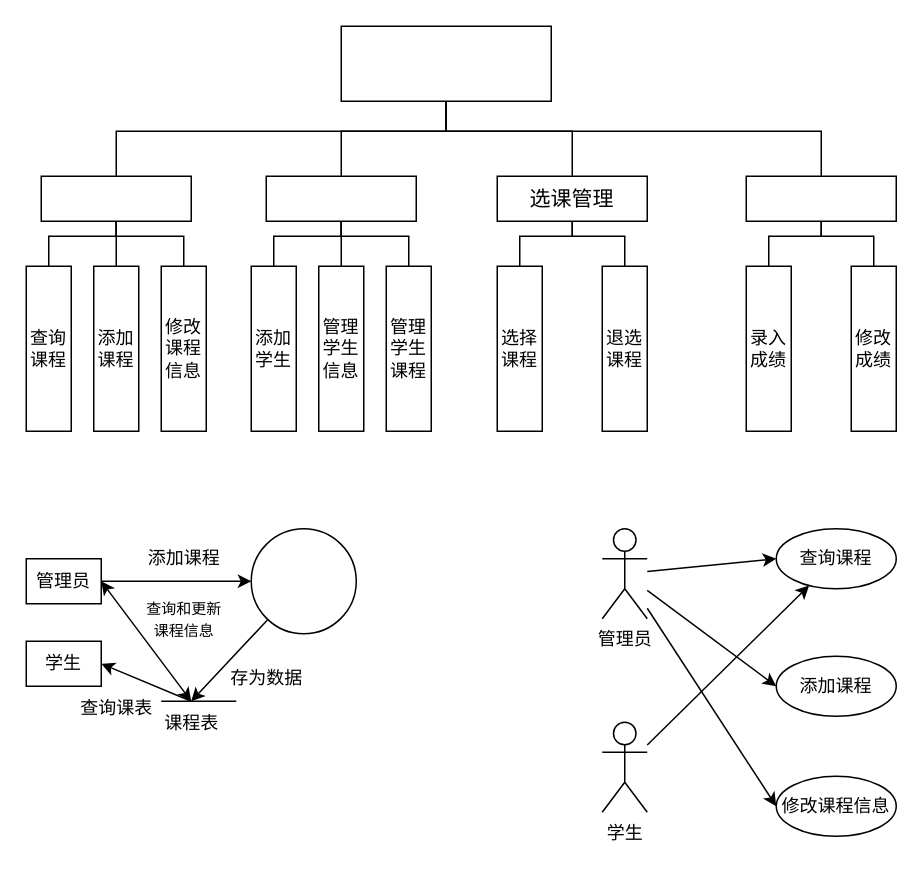
The diagram is 923 pixels wide and 870 high, and some of its shapes have lost their labels. Each missing label, with the centre of its shape:
学生管理: [340,198]
学生课程管理系统: [445,63]
成绩管理: [820,198]
整合为课程表: [303,580]
课程管理: [115,198]
